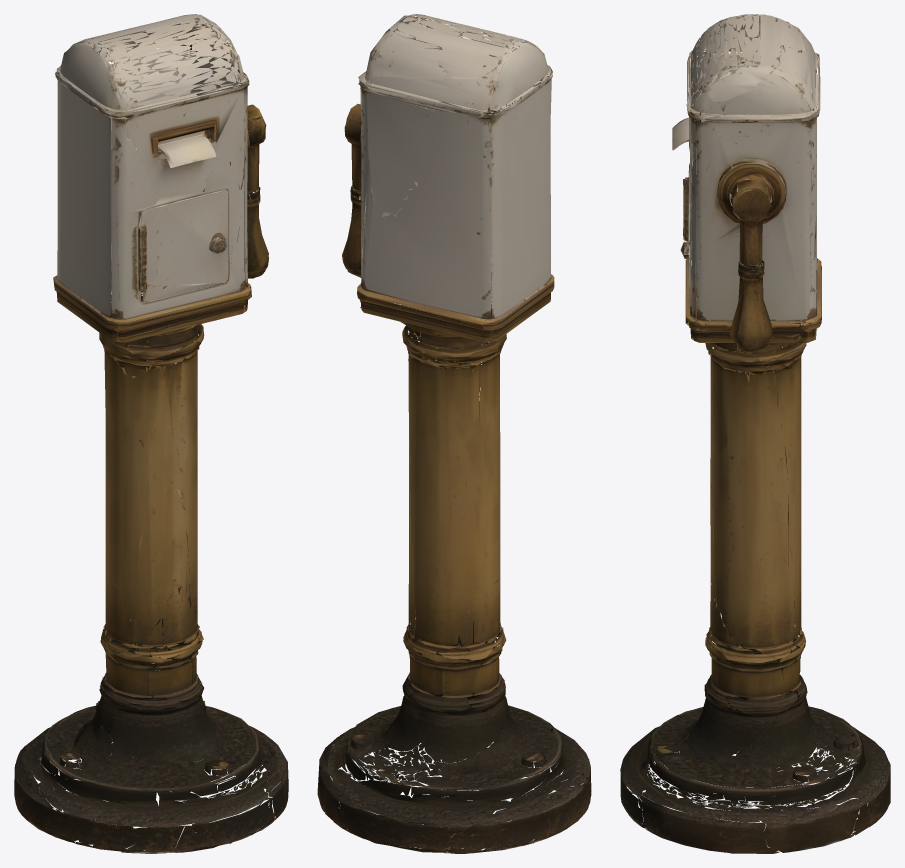
Rendered from ch03_queue_dispenser.glb.
3 renders of one model, left to right at view 1: azimuth 30°, elevation 25°; view 2: azimuth 150°, elevation 25°; view 3: azimuth 270°, elevation 25°, orthographic.
Visible parts, largest first — view 1: material; view 2: material; view 3: material.
Part boxes in pixels (x1=…): material: x1=14, y1=14, x2=288, y2=853; material: x1=317, y1=14, x2=591, y2=853; material: x1=620, y1=14, x2=890, y2=853.
Bounding box in the file's own units: 0.3733 × 1.14 × 0.3703.
Materials: 1 (1 with a texture image).
